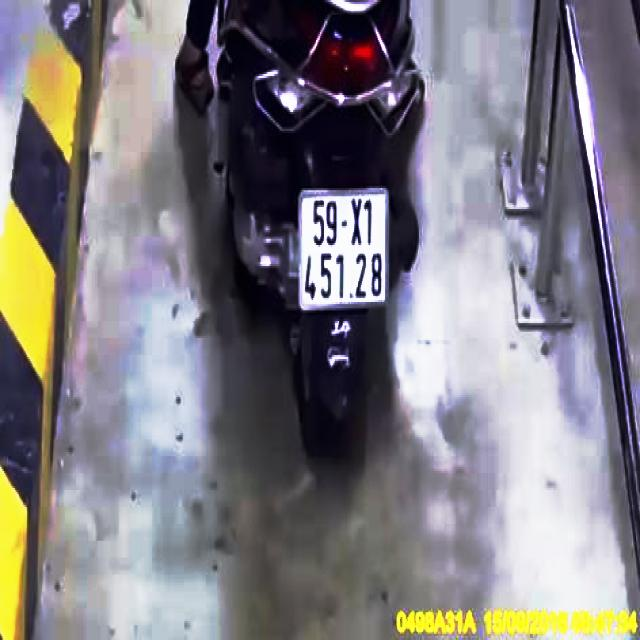license_plate: (300, 189, 389, 307)
